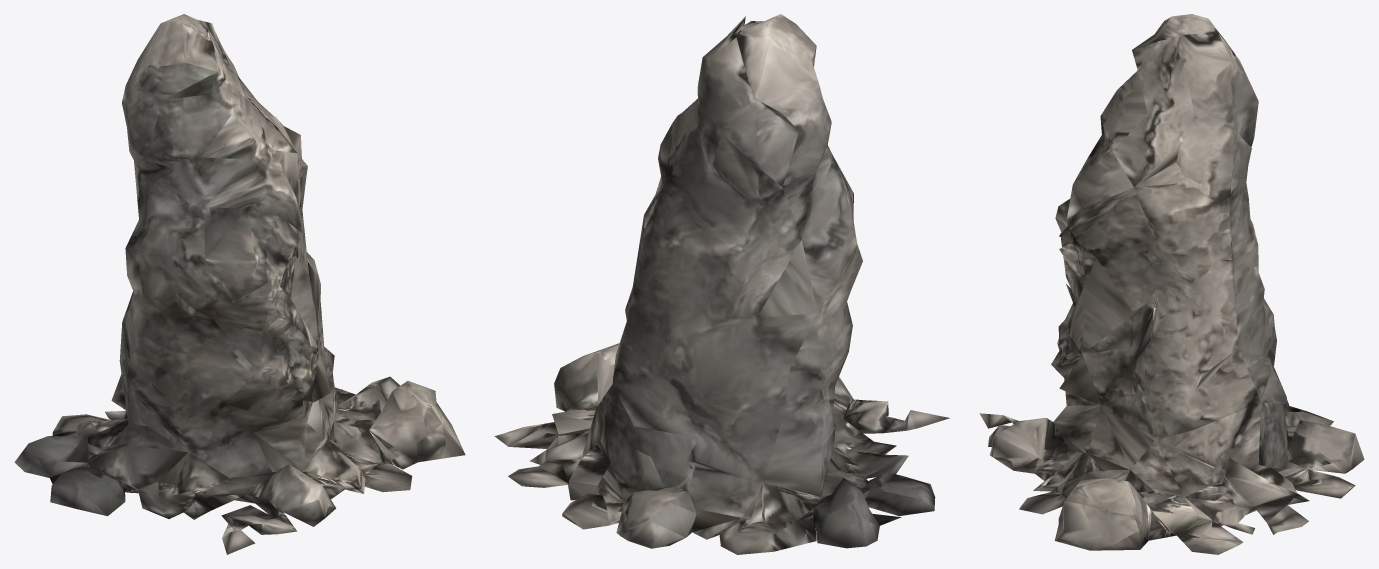
File: pinnacle_a_lod2.glb
3 renders of one model, left to right at view 1: azimuth 30°, elevation 25°; view 2: azimuth 150°, elevation 25°; view 3: azimuth 270°, elevation 25°, orthographic. The views are drawn at different scales.
Visible parts, largest first — view 1: pinnacle_a_lod2; view 2: pinnacle_a_lod2; view 3: pinnacle_a_lod2.
Part boxes in pixels (box(x1,y1,x2,y2)): pinnacle_a_lod2: box(14, 14, 465, 554); pinnacle_a_lod2: box(494, 14, 949, 554); pinnacle_a_lod2: box(979, 14, 1364, 554).
Bounding box in the file's own units: 19.99 × 22.05 × 17.98.
Materials: 1 (1 with a texture image).
